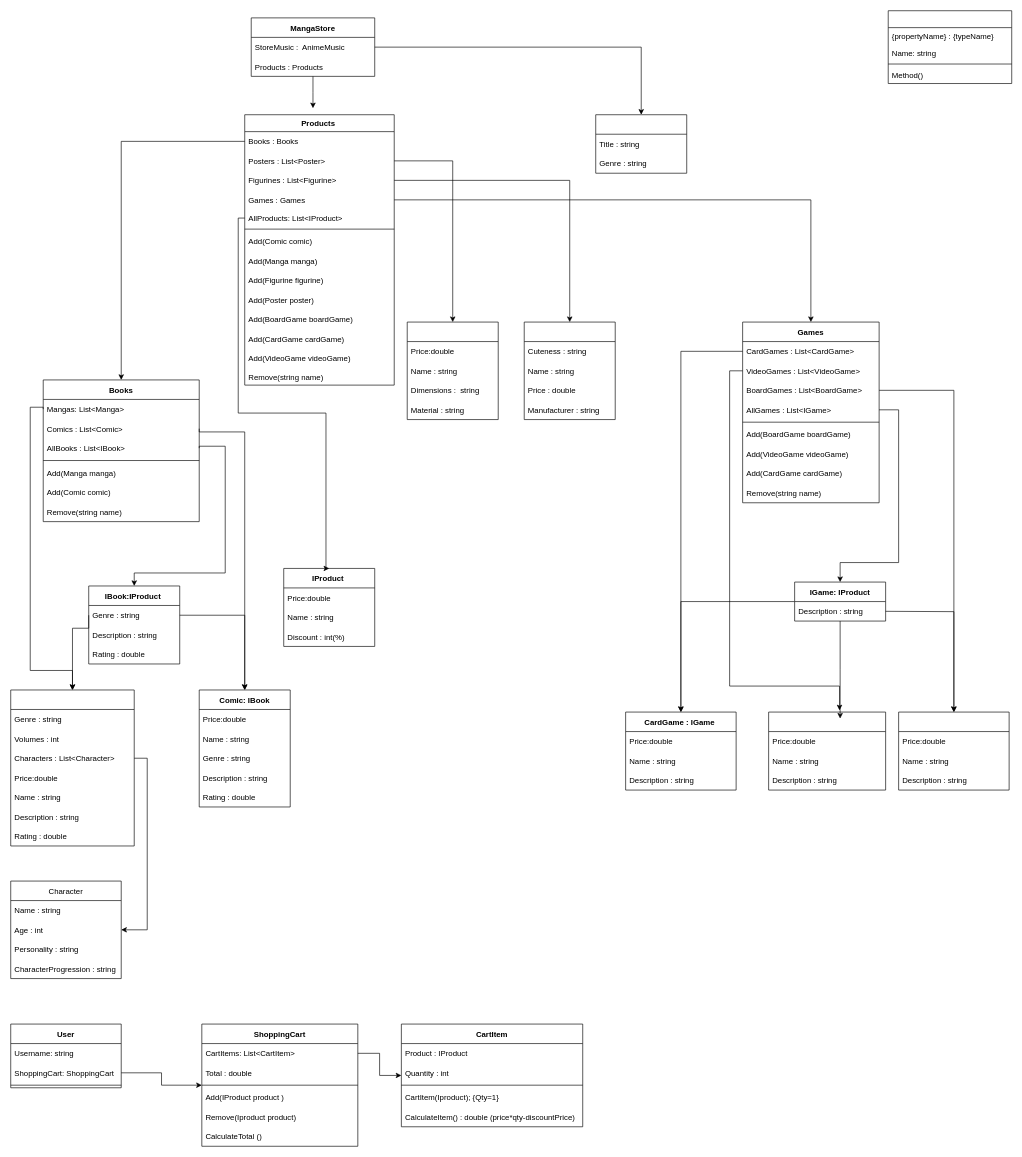
Some shapes in this 1022 by 1157 pixel diagram are drawn without their labels. The shapes that lost their labels are listed below. From the top down, each one's box as (x1, y1, x2, y2) in pixels, then its label:
(888, 10, 1012, 84): Person : IPerson
(595, 114, 687, 173): AnimeMusic
(407, 321, 498, 420): Poster: IProduct
(524, 321, 615, 420): Figurine :IProduct
(10, 689, 134, 846): Manga : IBook
(768, 711, 886, 790): VideoGame : IGame
(898, 711, 1009, 790): BoardGame : IGame
